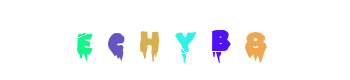8: (179, 0, 259, 80)
B: (168, 0, 248, 80)
C: (86, 0, 166, 80)
E: (44, 0, 124, 80)
H: (134, 0, 214, 80)
Y: (134, 0, 214, 80)
